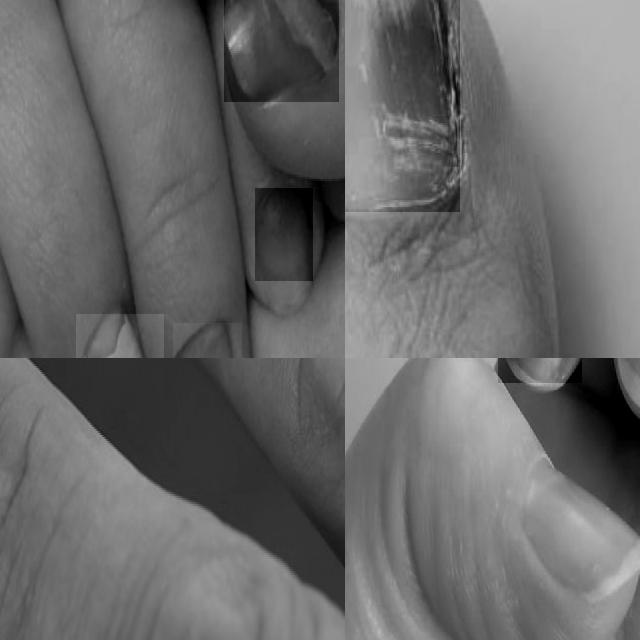diabetes: (345, 0, 460, 212), (225, 0, 339, 102), (85, 314, 143, 358)
sehat: (523, 461, 640, 603), (255, 189, 313, 281)
